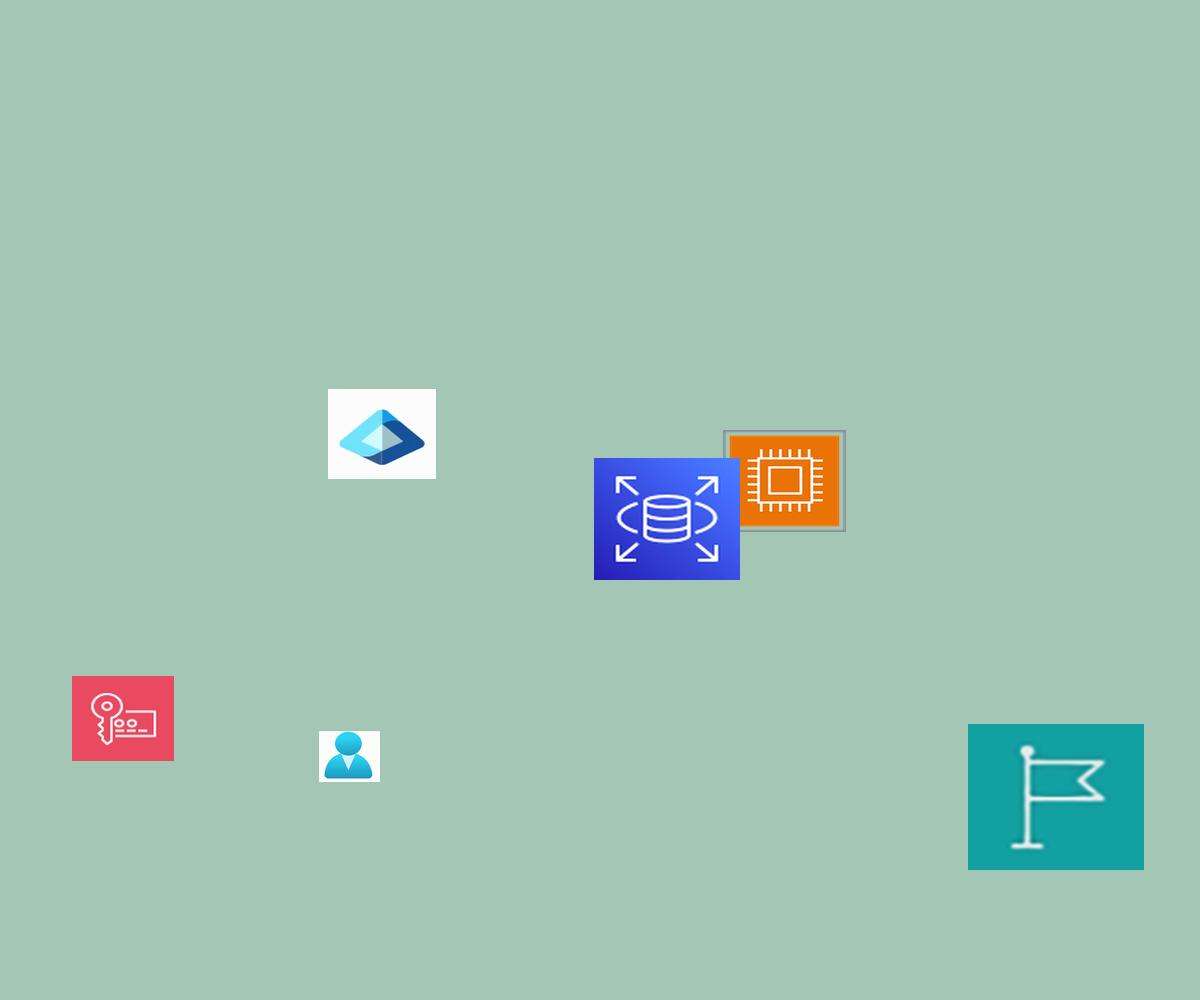AWS-Category_Compute: (723, 430, 846, 532)
AWS-Key-Management-Service: (72, 676, 174, 761)
AWS-RDS: (594, 458, 740, 580)
AWS-Region: (968, 724, 1144, 870)
Azure_microsoft_entra: (328, 389, 436, 479)
Azure_users: (319, 731, 380, 782)
